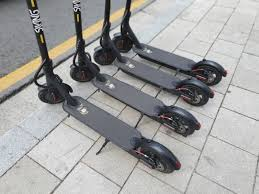kick_neck: (28, 3, 53, 72)
kick_wheel: (141, 141, 174, 173), (163, 106, 193, 134), (183, 80, 209, 105), (200, 59, 222, 85), (39, 83, 65, 103), (70, 63, 94, 81), (115, 33, 133, 52), (94, 48, 114, 65)
